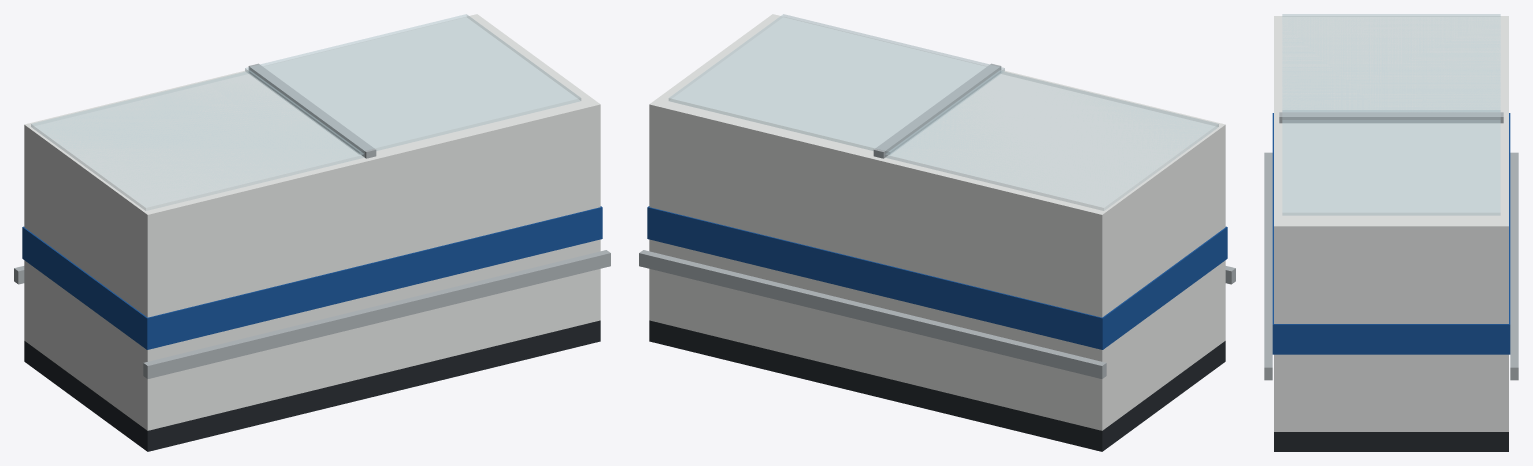
File: freezer.glb
3 views of the same model, side by side, from view 1: azimuth 30°, elevation 25°; view 2: azimuth 150°, elevation 25°; view 3: azimuth 270°, elevation 25° (orthographic). The views are drawn at different scales.
Parts seen in each view (by area): view 1: Freezer; view 2: Freezer; view 3: Freezer.
Part boxes in pixels (<box>): Freezer: <box>14,14,610,451</box>; Freezer: <box>639,14,1235,451</box>; Freezer: <box>1264,14,1518,451</box>.
Size of the model in its own units: 1.84 by 0.926 by 0.92.
